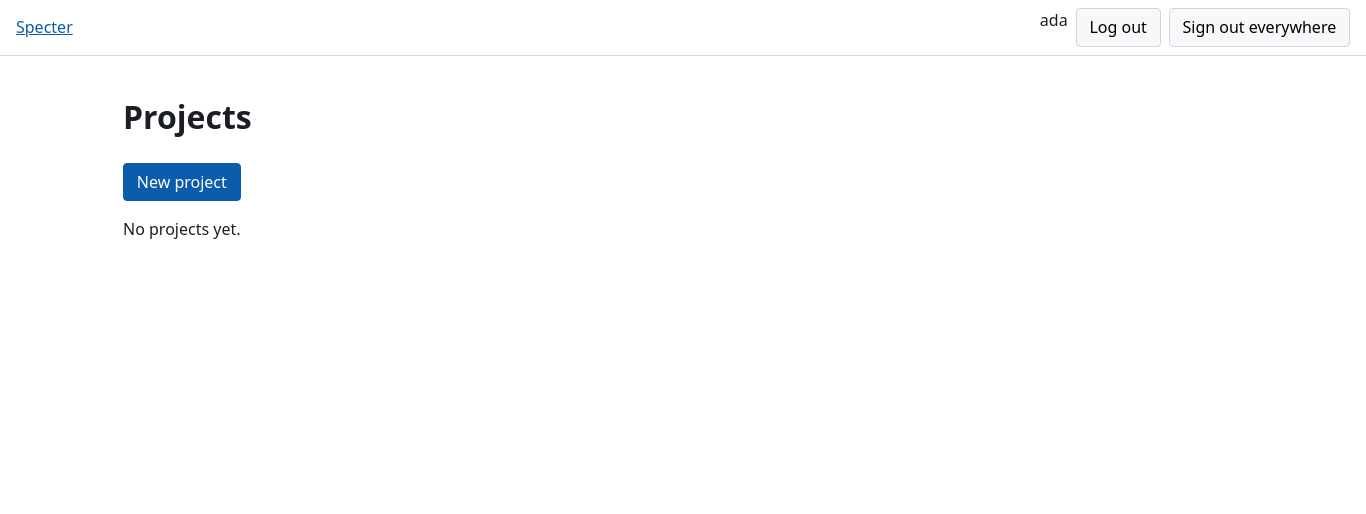
Test case: ProjectsPage › New project › blocks an empty name in the browser, without sending a request
Click the button "New project".
click(182, 182)  # box x1=123 y1=163 x2=241 y2=202
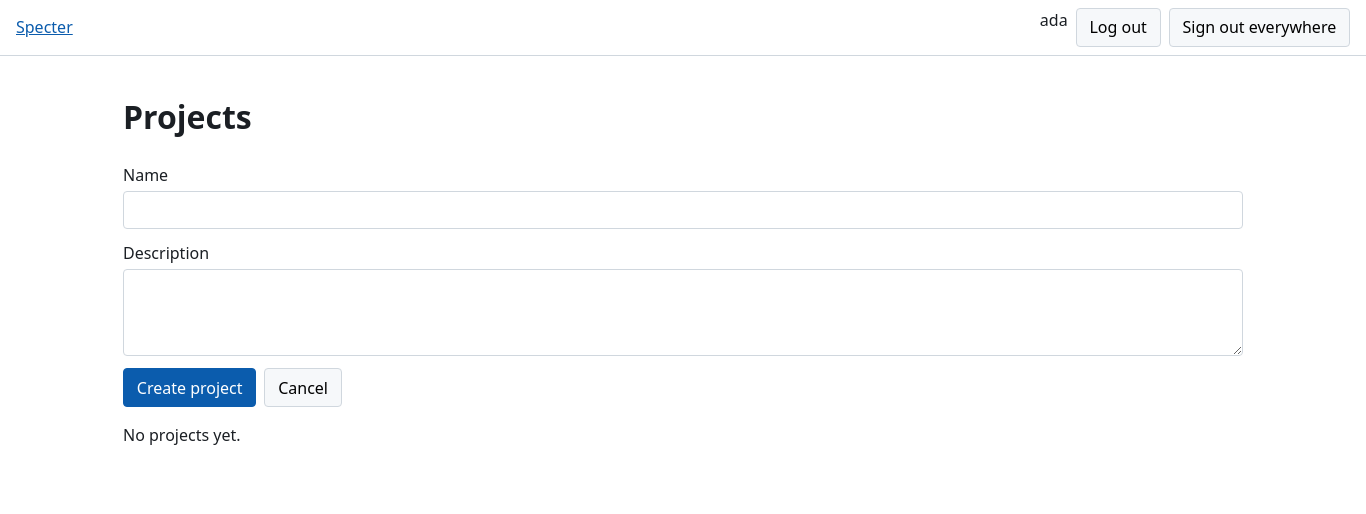
Click the button "Create project".
click(190, 388)  # box x1=123 y1=368 x2=256 y2=407
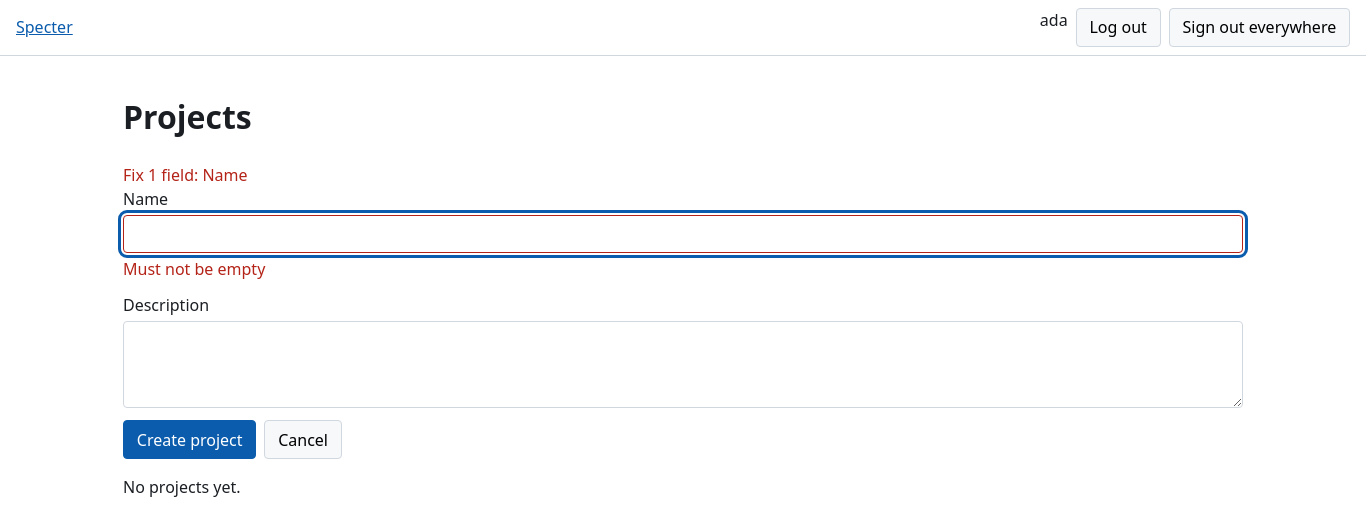
Now the text "Must not be empty" is shown, box x1=123 y1=258 x2=265 y2=280
